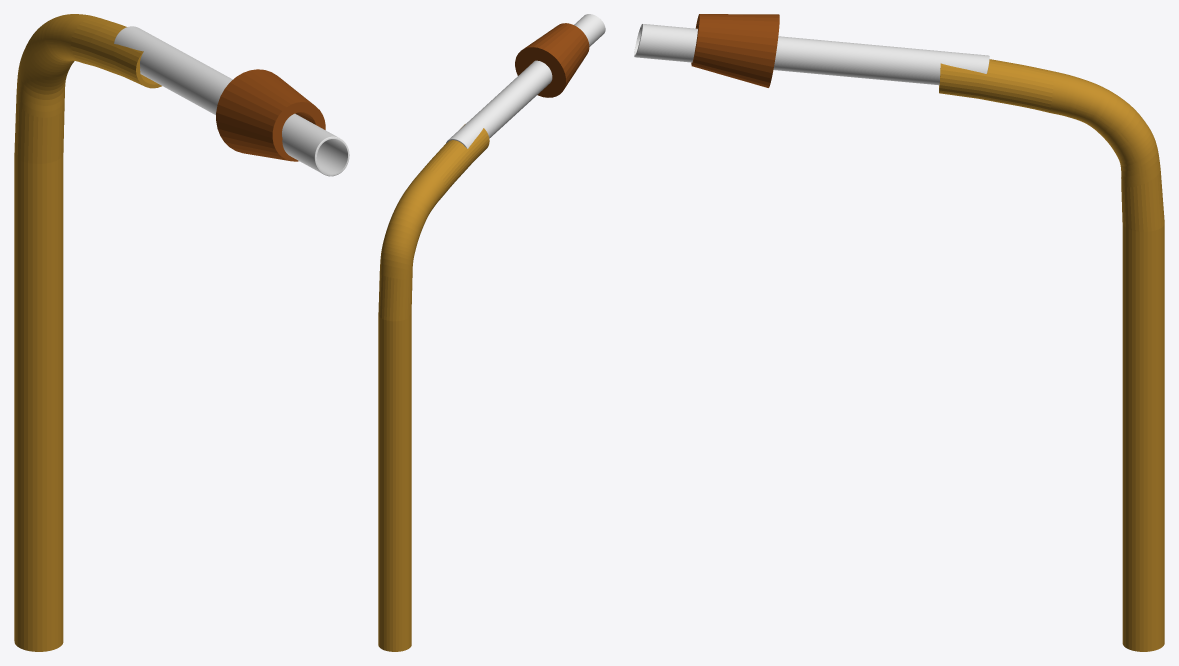
The model's file is rubber hose.fbx.
3 views of the same model, side by side, from view 1: azimuth 30°, elevation 25°; view 2: azimuth 150°, elevation 25°; view 3: azimuth 270°, elevation 25° (orthographic). The views are drawn at different scales.
Visible parts, largest first — view 1: 圓柱體, B.001, 圓柱體.002; view 2: 圓柱體, B.001, 圓柱體.002; view 3: 圓柱體, B.001, 圓柱體.002.
Part boxes in pixels (left/top/right/bottom): 圓柱體: left=14, top=14, right=161, bottom=651; B.001: left=114, top=26, right=349, bottom=176; 圓柱體.002: left=216, top=69, right=325, bottom=161; 圓柱體: left=378, top=124, right=489, bottom=651; B.001: left=446, top=14, right=605, bottom=148; 圓柱體.002: left=515, top=23, right=589, bottom=97; 圓柱體: left=939, top=59, right=1164, bottom=651; B.001: left=634, top=24, right=989, bottom=85; 圓柱體.002: left=691, top=14, right=779, bottom=87.
Size of the model in its own units: 28 by 259 by 199.
